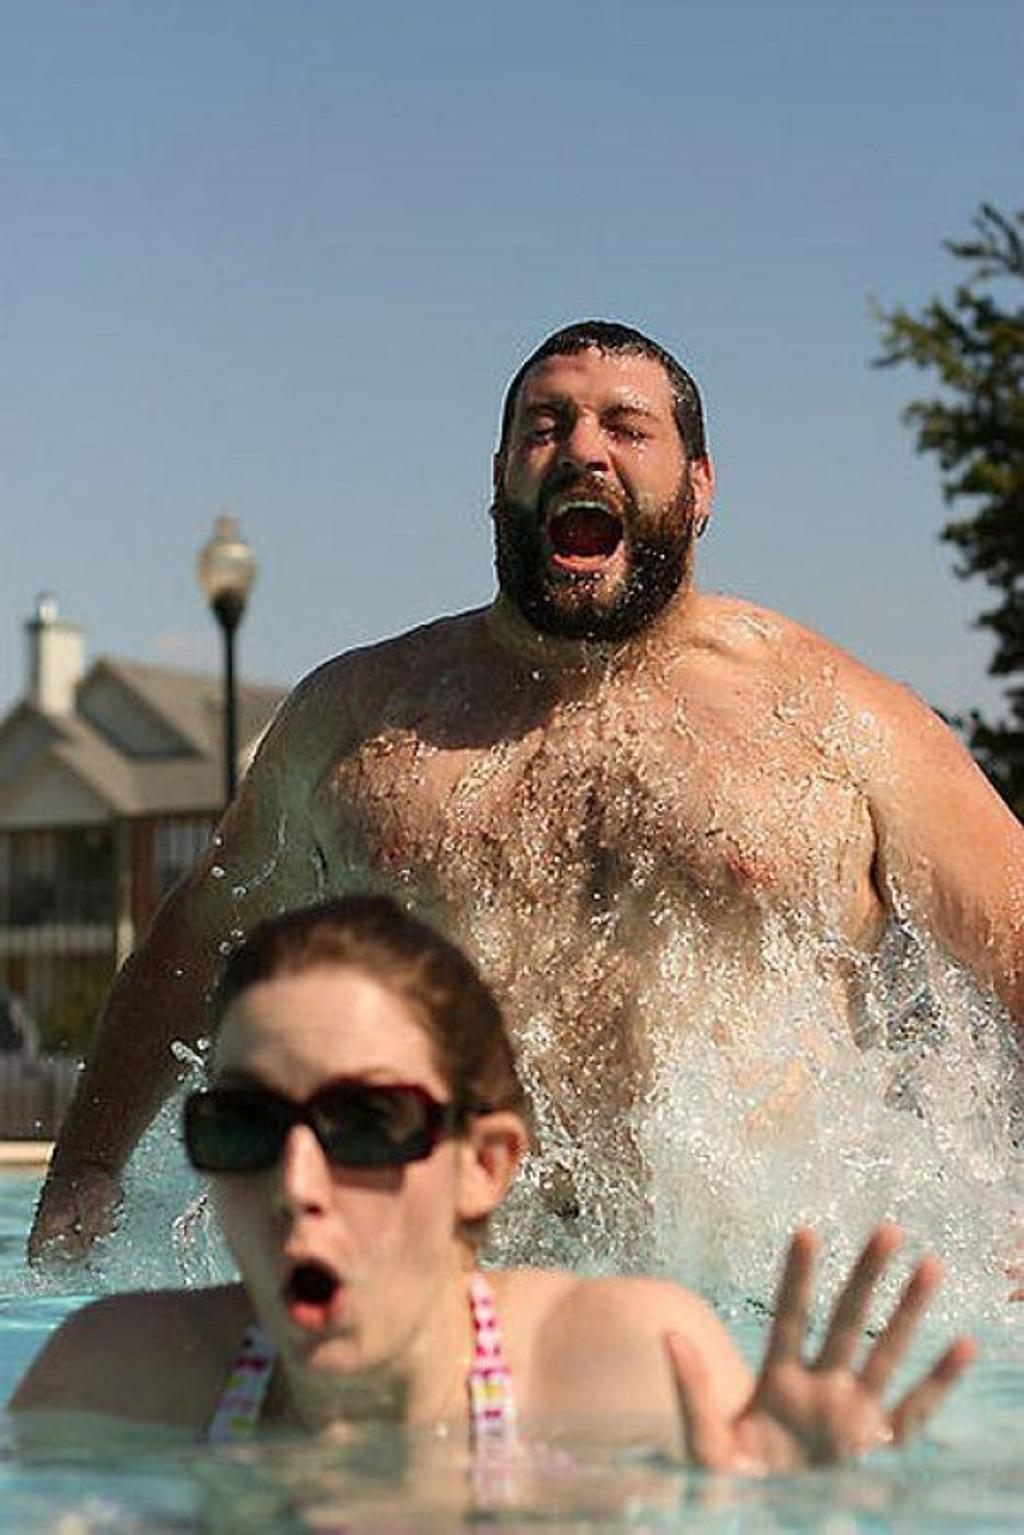face: (207, 1030, 450, 1377), (500, 377, 689, 629)
